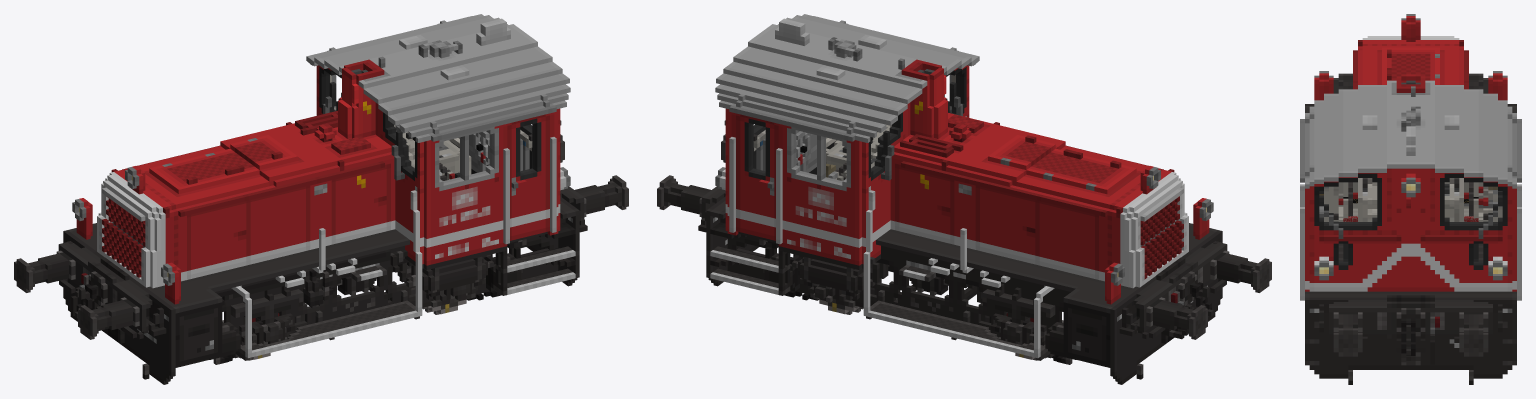
3 views of the same model, side by side, from view 1: azimuth 30°, elevation 25°; view 2: azimuth 150°, elevation 25°; view 3: azimuth 270°, elevation 25° (orthographic).
Visible parts, largest first — view 1: FRAME_3, FRAME_1, FRAME_2, Motor_Cover_2, DOOR_1_EXTERNAL, Abogus_Cover, Motor_Cover_1, INTERIOR_1_LCG_cab1, Brake_Rigging; view 2: FRAME_3, FRAME_1, FRAME_2, Motor_Cover_2, DOOR_2_EXTERNAL, Abogus_Cover, Motor_Cover_1, INTERIOR_1_LCG_cab1, Brake_Rigging; view 3: FRAME_3, FRAME_1, INTERIOR_1_LCG_cab1, THROTTLE_1_INTERIOR_LCG_cab1-1, THROTTLE_2_INTERIOR_LCG_cab1, REVERSER_2_INTERIOR_LCG_cab1.
Part boxes in pixels (x1,y1,x2,y2): FRAME_3: (72,14,570,304); FRAME_1: (14,134,628,384); FRAME_2: (209,190,526,364); Motor_Cover_2: (246,185,310,265); DOOR_1_EXTERNAL: (507,114,549,240); Abogus_Cover: (331,163,390,244); Motor_Cover_1: (187,201,246,279); INTERIOR_1_LCG_cab1: (326,73,547,242); Brake_Rigging: (294,262,415,322); FRAME_3: (715,14,1213,304); FRAME_1: (657,134,1271,384); FRAME_2: (759,190,1076,364); Motor_Cover_2: (975,185,1039,265); DOOR_2_EXTERNAL: (736,114,778,240); Abogus_Cover: (895,163,954,244); Motor_Cover_1: (1039,201,1098,279); INTERIOR_1_LCG_cab1: (738,73,959,242); Brake_Rigging: (870,262,991,322); FRAME_3: (1300,14,1521,300); FRAME_1: (1305,73,1516,384); INTERIOR_1_LCG_cab1: (1319,178,1502,263); THROTTLE_1_INTERIOR_LCG_cab1-1: (1348,182,1357,216); THROTTLE_2_INTERIOR_LCG_cab1: (1464,182,1473,216); REVERSER_2_INTERIOR_LCG_cab1: (1338,198,1357,221).
Bounding box in the file's own units: 7.88 × 3.5 × 2.88.
Materials: 1 (1 with a texture image).
